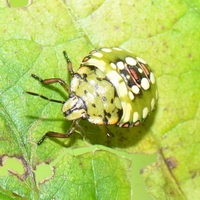insect: (26, 47, 157, 144)
